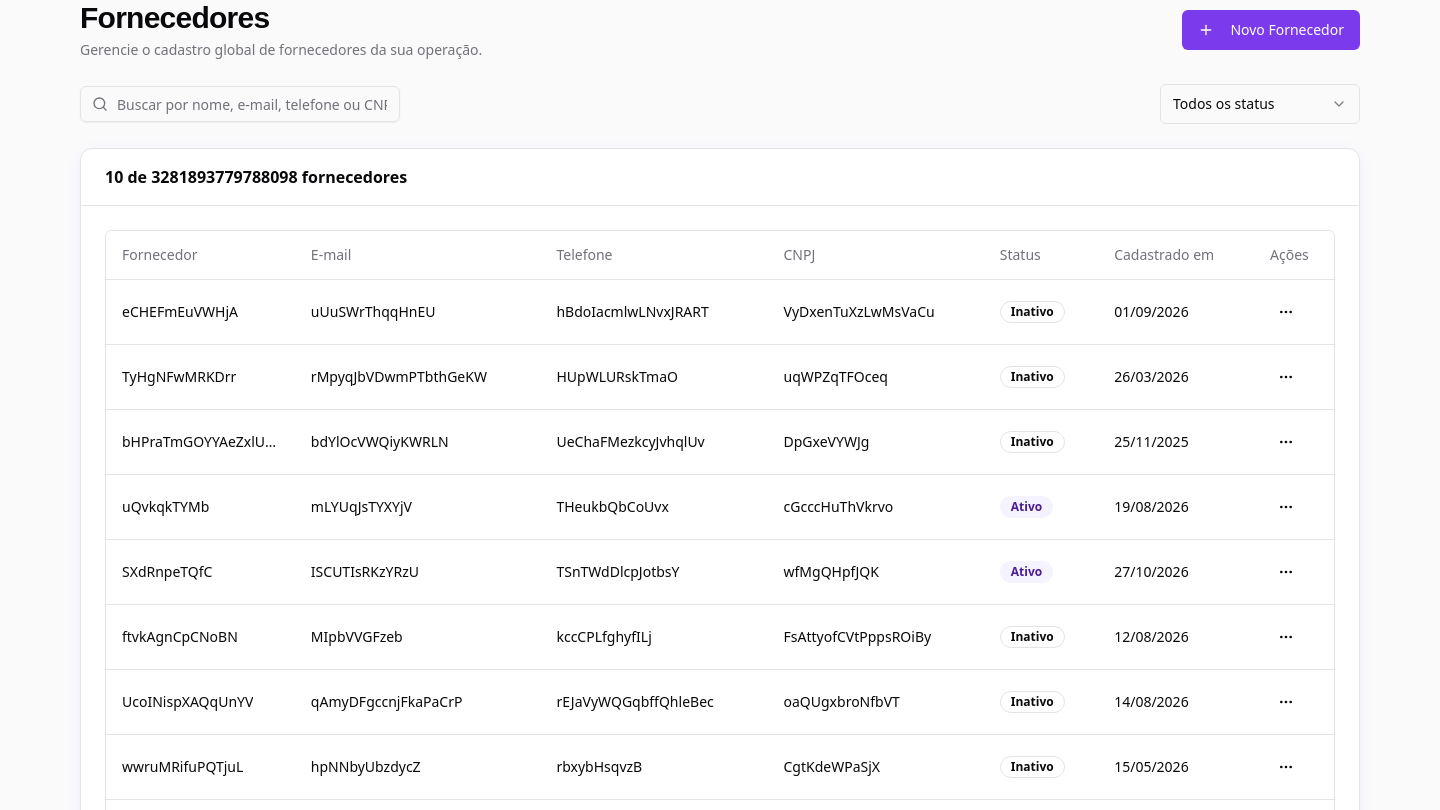
Scenario: SuppliersPage › renders suppliers list and allows opening the create form
This screenshot has width=1440, height=810.
Click the button "Novo Fornecedor". click: coordinates (1271, 30)
box: [1182,10,1360,50]
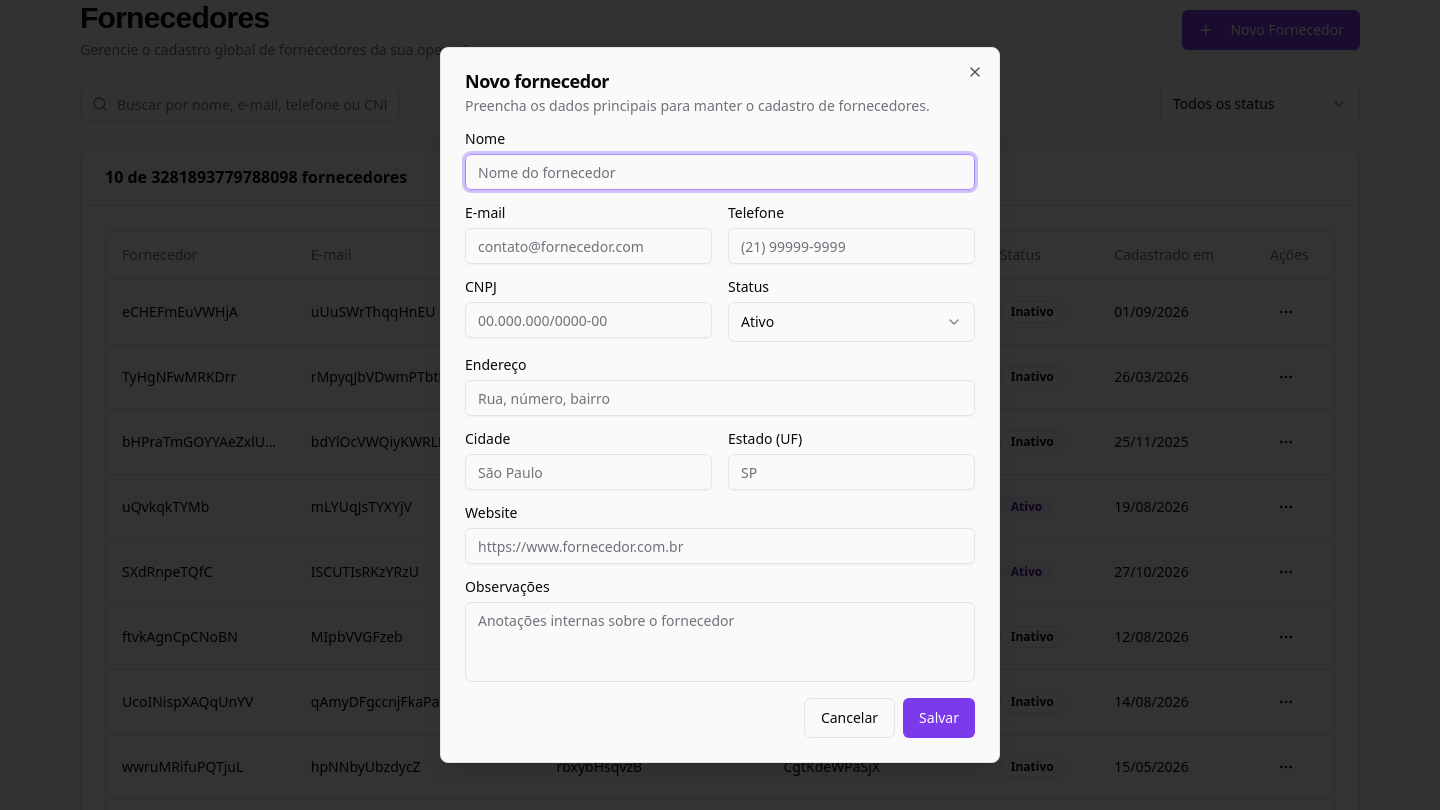
Check: the heading "Novo fornecedor" is shown, box [465,69,609,93]
